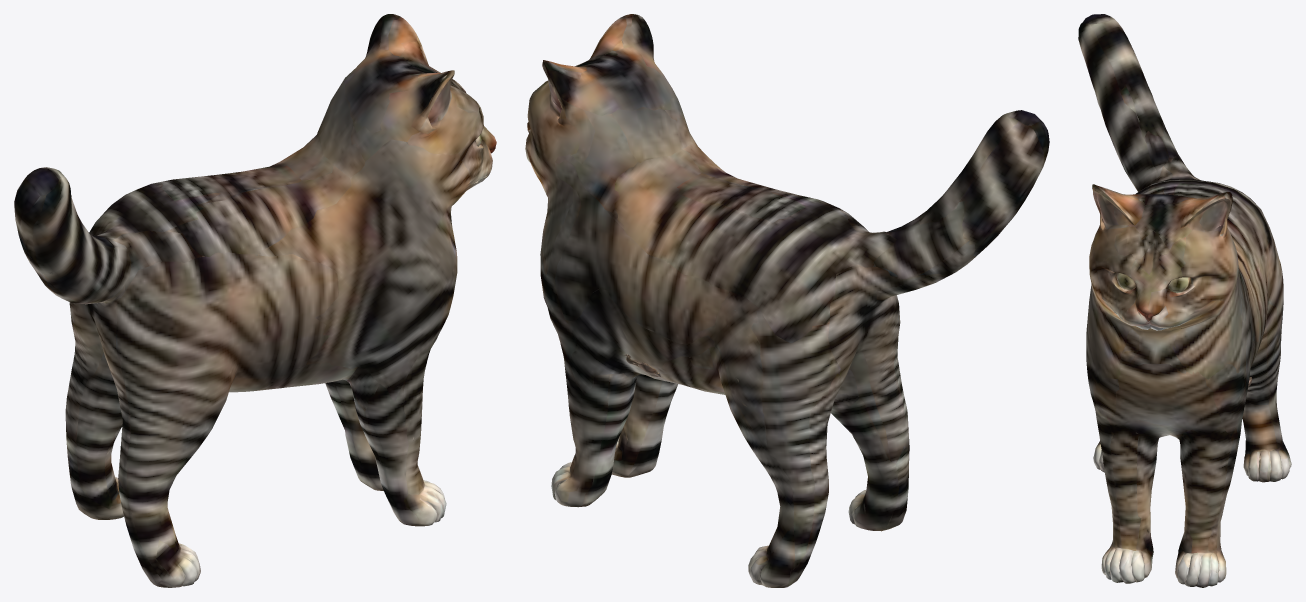
File: MARUBOX-lo.glb
The picture shows the model from 3 angles, left to right: view 1: azimuth 30°, elevation 25°; view 2: azimuth 150°, elevation 25°; view 3: azimuth 270°, elevation 25°; orthographic projection. The views are drawn at different scales.
Visible parts, largest first — view 1: fit; view 2: fit; view 3: fit.
Boxes of the visible parts, <box> form: fit: <box>14,14,496,587</box>; fit: <box>525,14,1049,587</box>; fit: <box>1078,14,1291,587</box>.
Bounding box in the file's own units: 1.16 × 0.9998 × 0.4878.
1 material, 1 textured.
